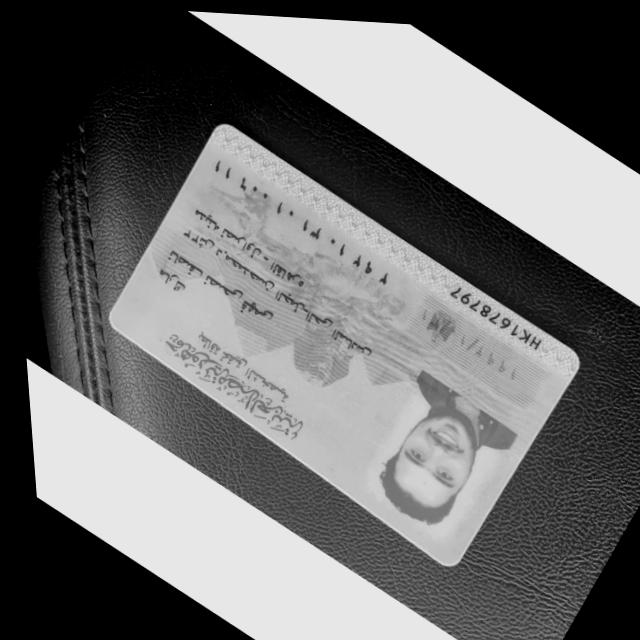id_card: (107, 123, 579, 565)
